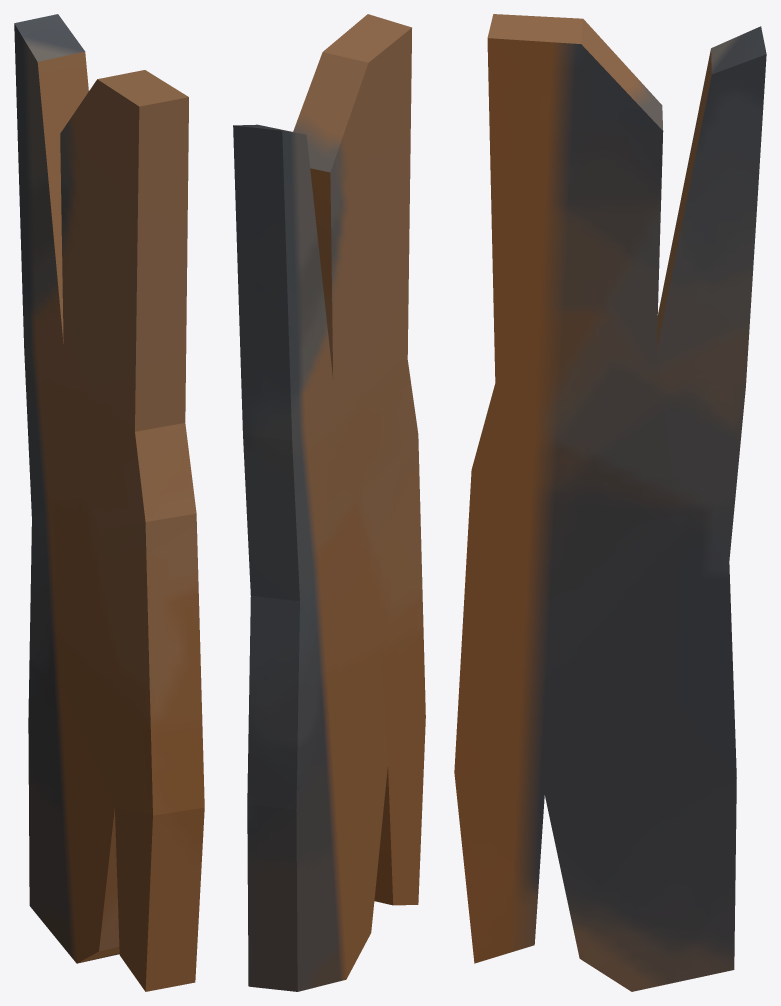
File: DebrisCaisse2.FBX
3 views of the same model, side by side, from view 1: azimuth 30°, elevation 25°; view 2: azimuth 150°, elevation 25°; view 3: azimuth 270°, elevation 25° (orthographic). The views are drawn at different scales.
Visible parts, largest first — view 1: Debris2; view 2: Debris2; view 3: Debris2.
Boxes of the visible parts, <box> form: Debris2: <box>14,14,204,991</box>; Debris2: <box>233,14,425,991</box>; Debris2: <box>454,14,766,991</box>.
Bounding box in the file's own units: 0.1283 × 2.21 × 0.6566.
